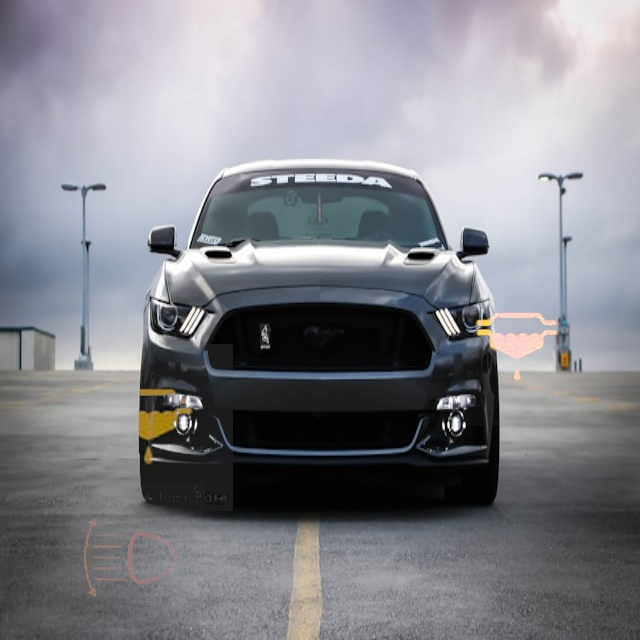symbol: (66, 344, 233, 511), (440, 270, 596, 426), (59, 483, 205, 629)
